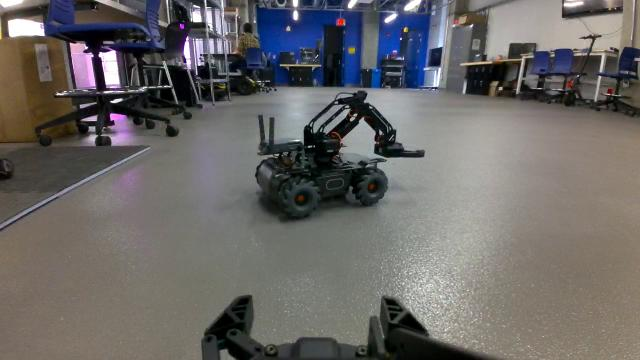robot: (256, 89, 428, 221)
